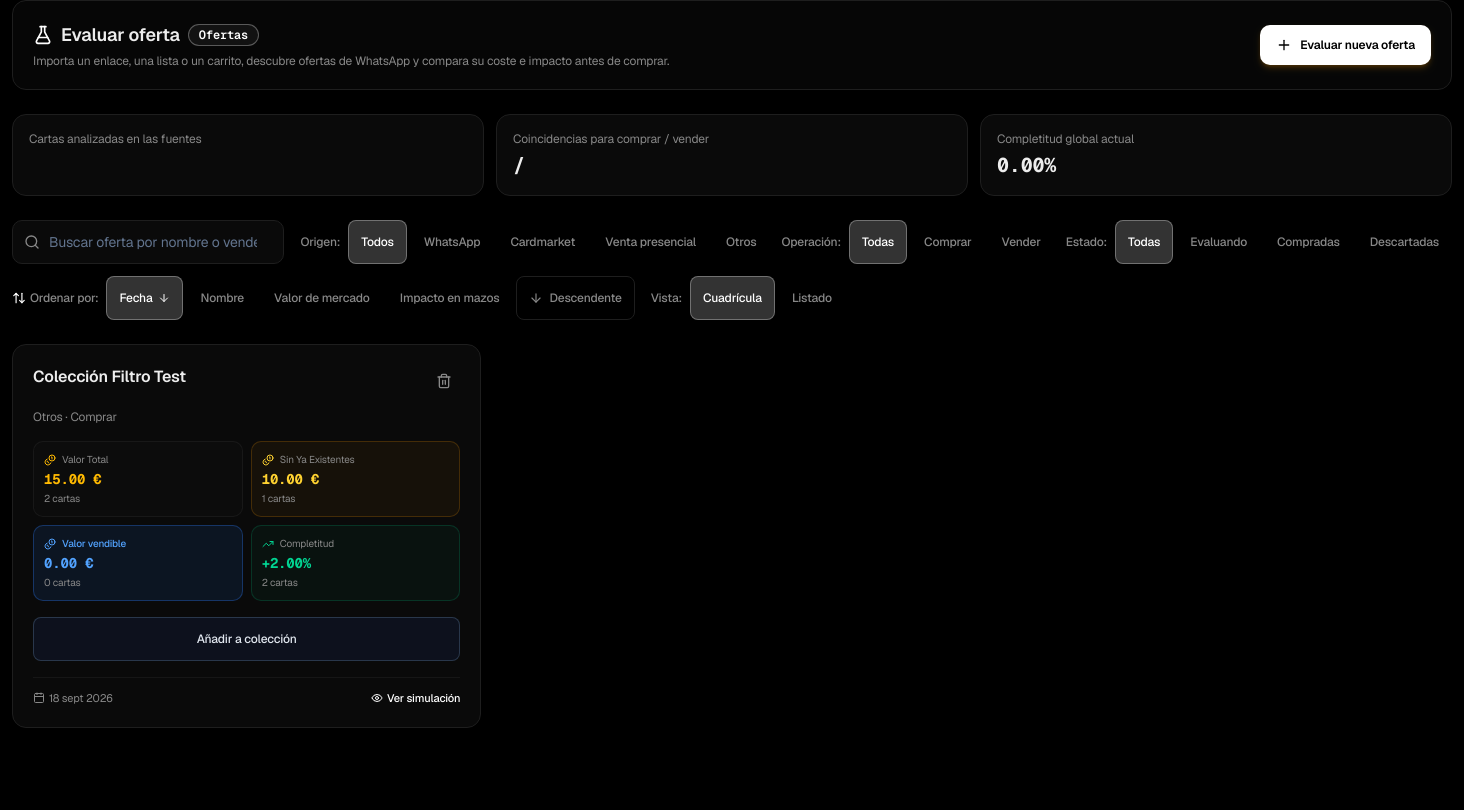
Scenario: Simulated Collections Feature › filters out cards that already exist in collection when 'Aportan a mazos' is selected
What coordinates should you click on to do the following:
click the heading "Colección Filtro Test"
I would click on:
 (109, 377)
Its box is [33,365,186,389].
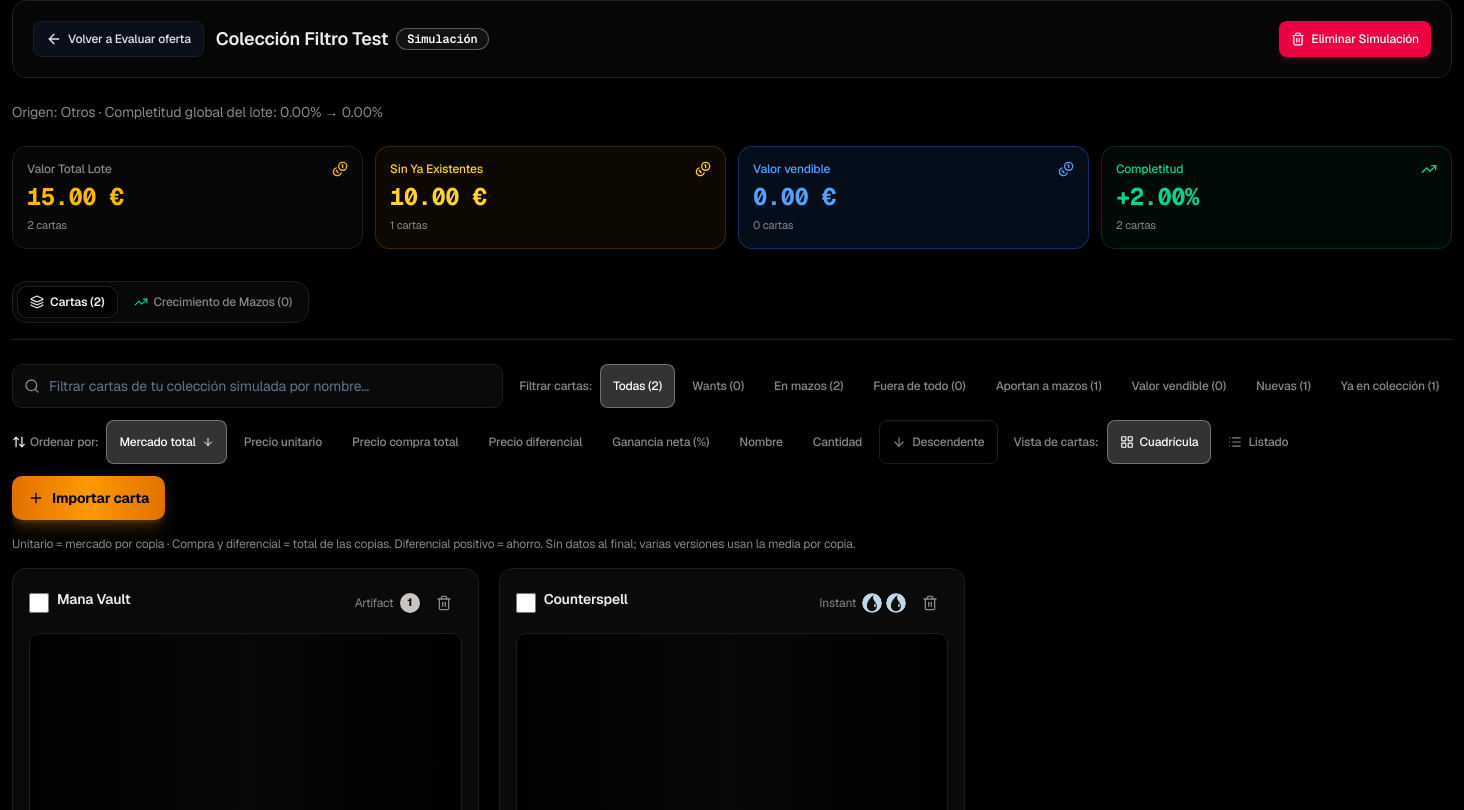
Check: the heading "Mana Vault" is shown, box [57,589,130,609]
Check: the heading "Counterspell" is shown, box [544,589,628,609]
Check: the button "Aportan a mazos (1)" is shown
// Click filter 'Aportan a mazos'
What coordinates should you click on to do the following:
click the button "Aportan a mazos (1)"
I would click on:
 (1049, 386)
Its box is [983,364,1114,408].
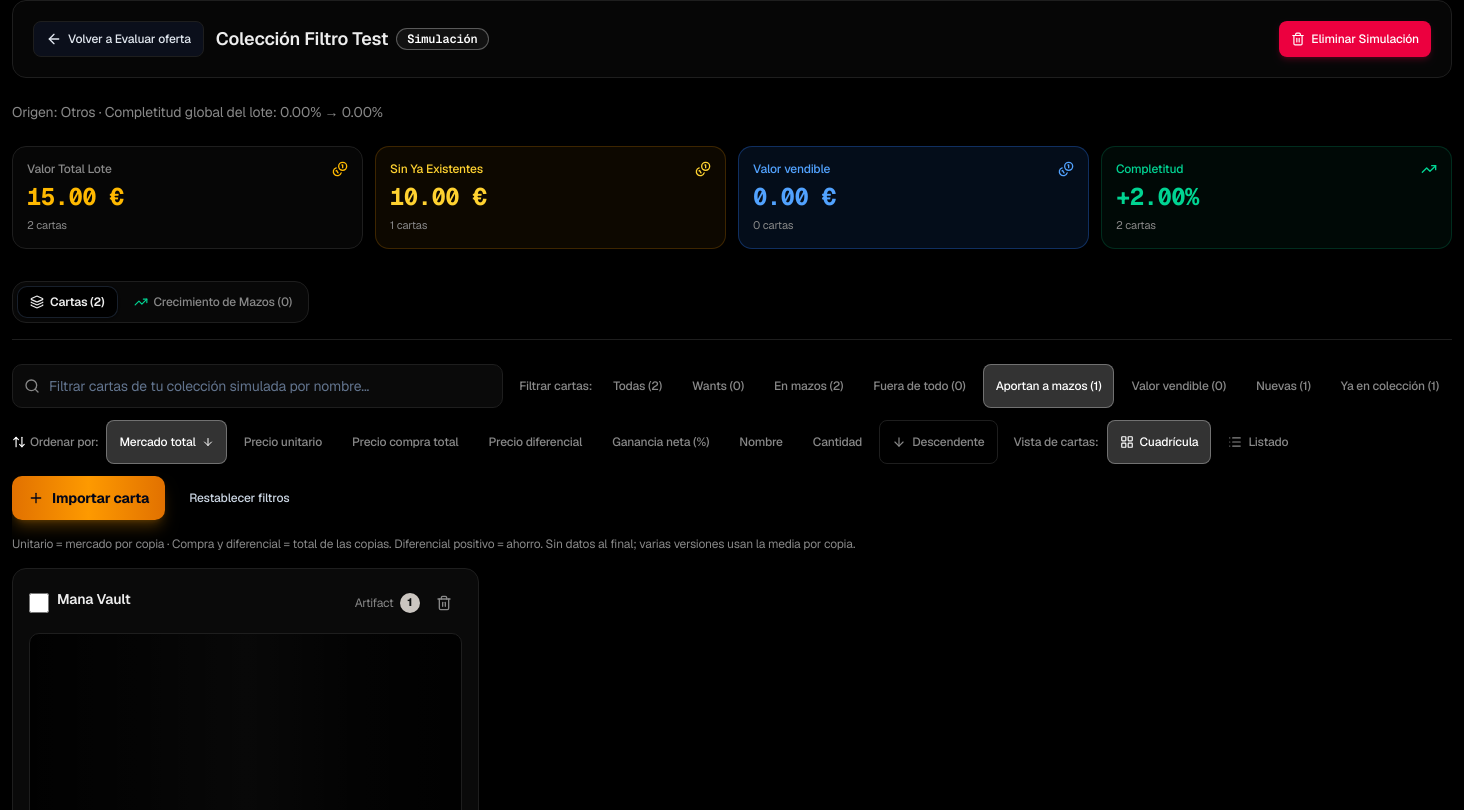
Check: the heading "Mana Vault" is shown, box [57,589,130,609]
Check: the heading "Counterspell" is gone
